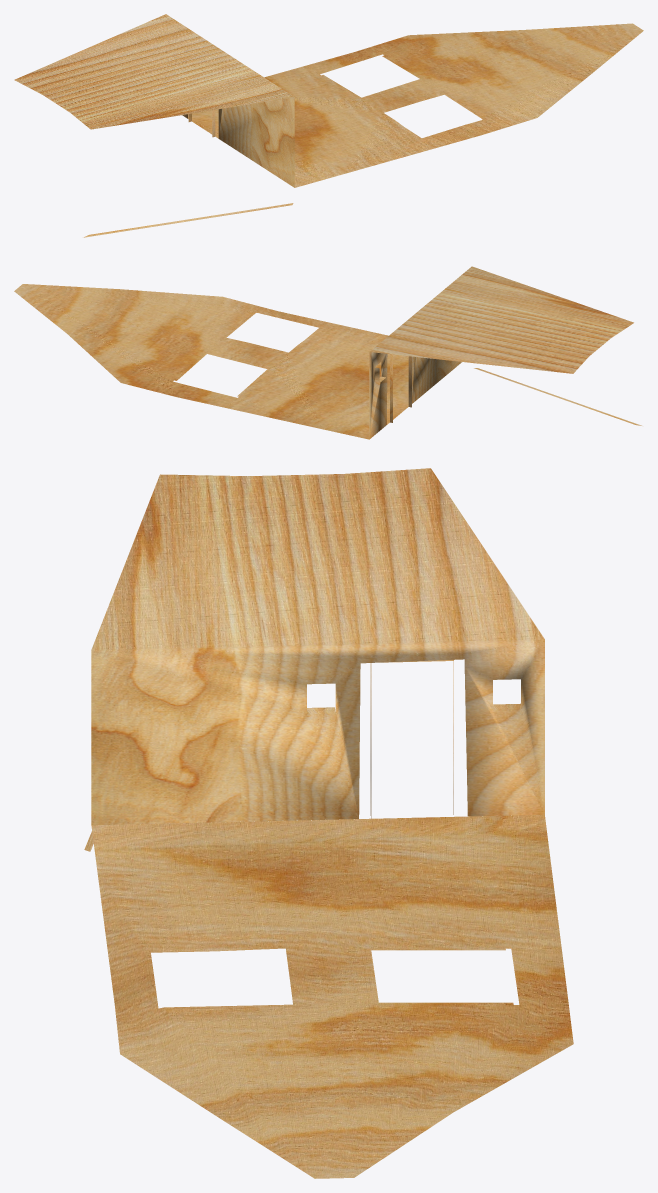
The model's file is cube.109_lev3.glb.
The picture shows the model from 3 angles, top to bottom: view 1: azimuth 30°, elevation 25°; view 2: azimuth 150°, elevation 25°; view 3: azimuth 270°, elevation 25°; orthographic projection. The views are drawn at different scales.
Parts seen in each view (by area): view 1: cube.109_lev3; view 2: cube.109_lev3; view 3: cube.109_lev3.
Boxes of the visible parts, <box> form: cube.109_lev3: <box>14,14,643,237</box>; cube.109_lev3: <box>14,266,641,439</box>; cube.109_lev3: <box>84,468,573,1178</box>.
Bounding box in the file's own units: 6 × 1.01 × 2.19.
Materials: 1 (1 with a texture image).
